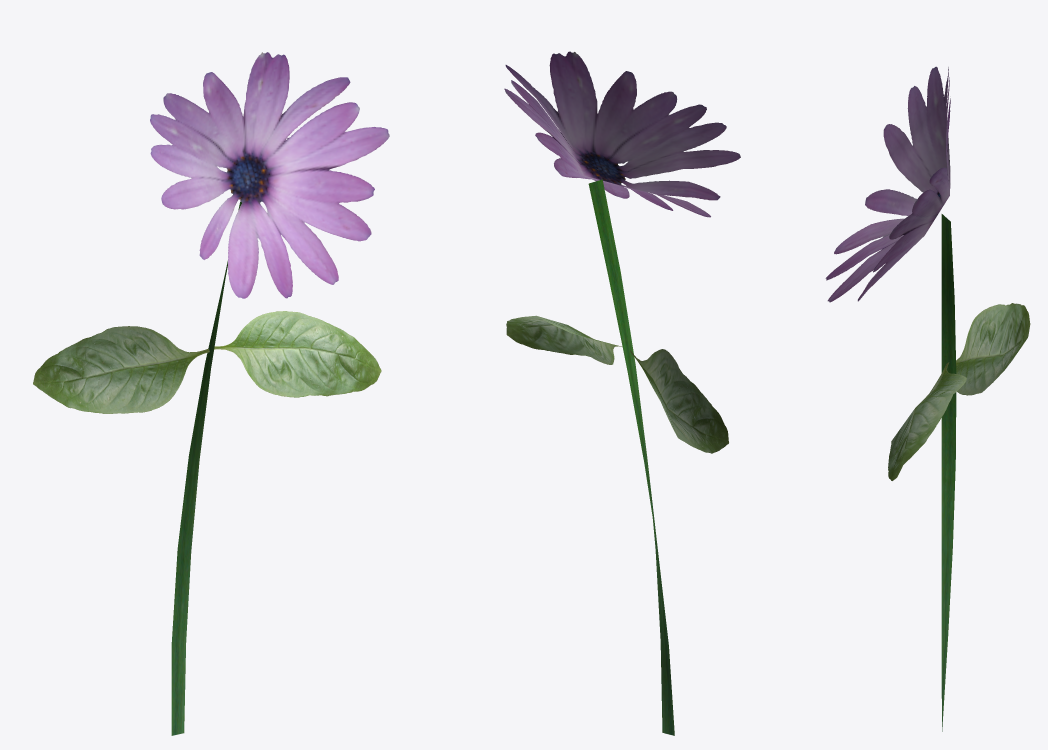
The model's file is purpleflower1.FBX.
3 renders of one model, left to right at view 1: azimuth 30°, elevation 25°; view 2: azimuth 150°, elevation 25°; view 3: azimuth 270°, elevation 25°, orthographic. The views are drawn at different scales.
Parts seen in each view (by area): view 1: flower3; view 2: flower3; view 3: flower3.
Part boxes in pixels (box(x1,y1,x2,y2)): flower3: box(33, 52, 389, 735); flower3: box(504, 51, 740, 735); flower3: box(825, 66, 1030, 731).
Size of the model in its own units: 532 by 305 by 1047.
